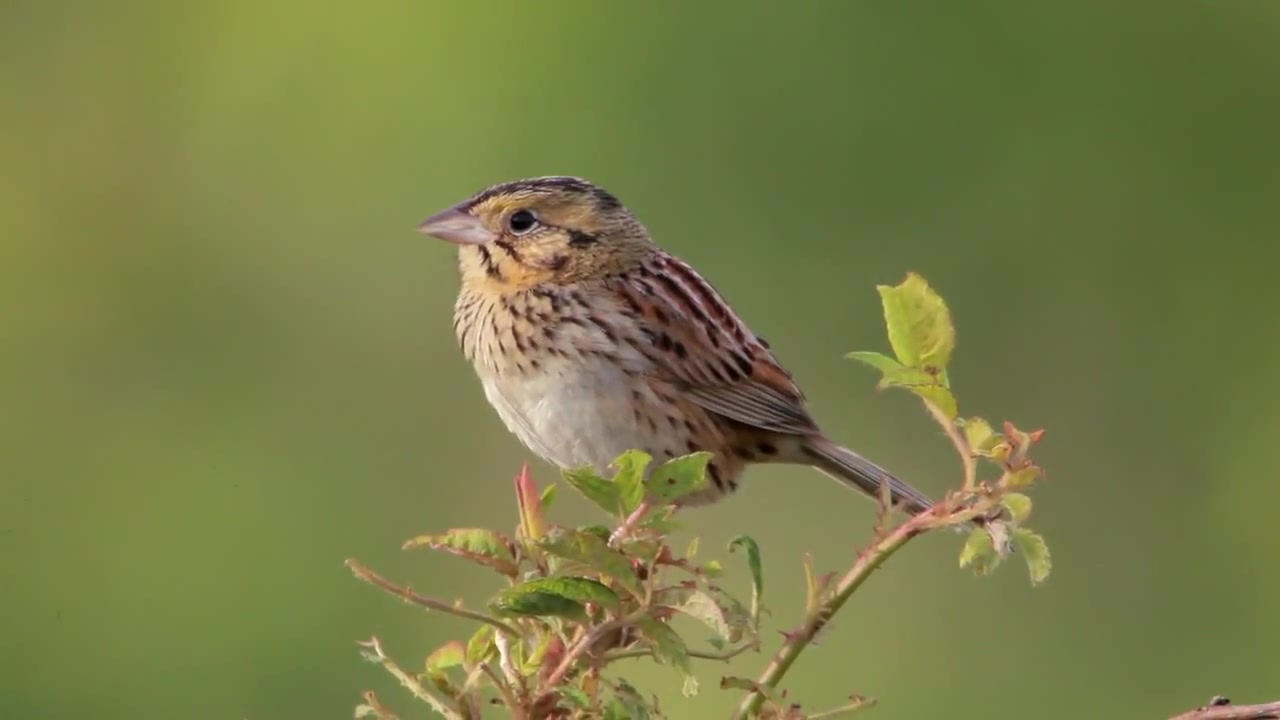bird: (415, 180, 945, 546)
